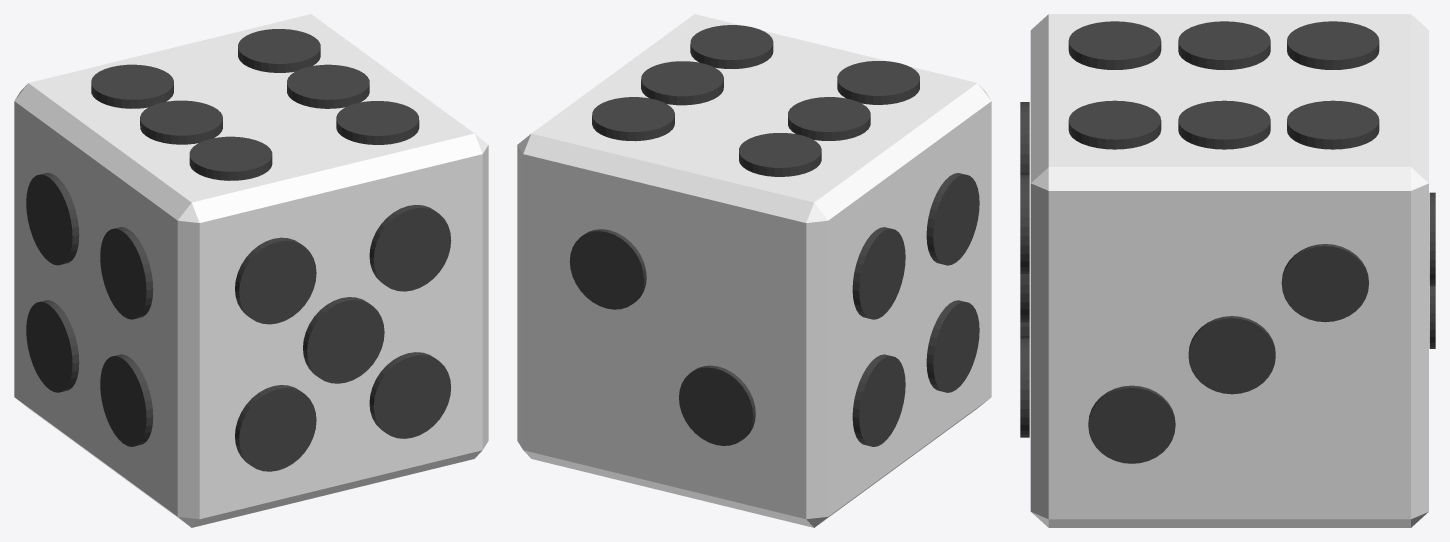
The model's file is dice.glb.
3 views of the same model, side by side, from view 1: azimuth 30°, elevation 25°; view 2: azimuth 150°, elevation 25°; view 3: azimuth 270°, elevation 25° (orthographic). The views are drawn at different scales.
Parts seen in each view (by area): view 1: Cube; view 2: Cube; view 3: Cube.
Part boxes in pixels (x1=…): Cube: x1=14, y1=14, x2=488, y2=527; Cube: x1=517, y1=14, x2=991, y2=527; Cube: x1=1020, y1=14, x2=1435, y2=527.
Bounding box in the file's own units: 2.09 × 2.1 × 2.09.
Materials: 1 (1 with a texture image).
